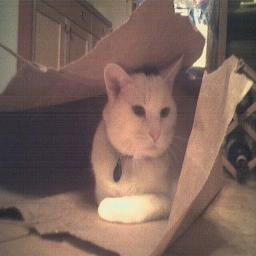catnose: (149, 130, 161, 142)
